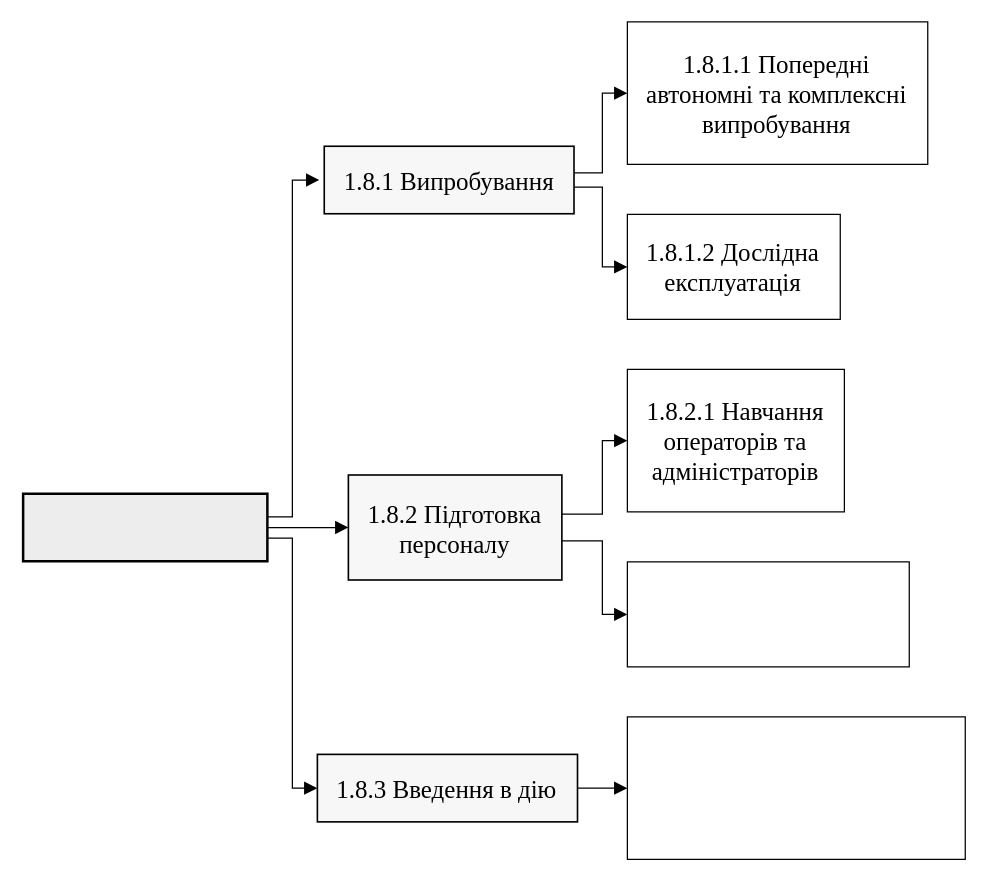
The diagram is 988 pixels wide and 881 high, and some of its shapes have lost their labels. Each missing label, with the centre of its shape:
1.8 Впровадження: (x=144, y=527)
1.8.2.2 Експлуатаційна документація: (x=767, y=614)
1.8.3.1 Приймальні випробування та введення в постійну експлуатацію: (x=795, y=787)
